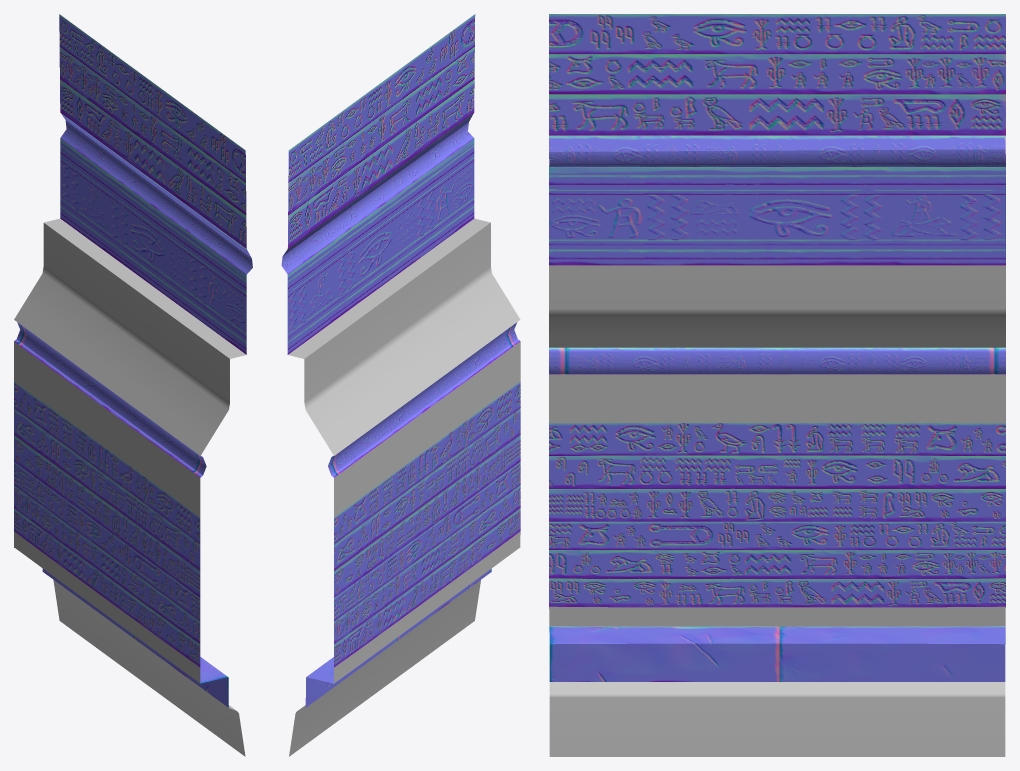
The model's file is SmallWall_NoGaps.fbx.
The picture shows the model from 3 angles, left to right: view 1: azimuth 30°, elevation 25°; view 2: azimuth 150°, elevation 25°; view 3: azimuth 270°, elevation 25°; orthographic projection. The views are drawn at different scales.
Parts seen in each view (by area): view 1: RoomWallFlat_Small; view 2: RoomWallFlat_Small; view 3: RoomWallFlat_Small.
Part boxes in pixels (x1,y1,x2,y2): RoomWallFlat_Small: (14, 14, 252, 756); RoomWallFlat_Small: (281, 14, 520, 756); RoomWallFlat_Small: (549, 14, 1005, 756).
Bounding box in the file's own units: 2.37 × 26.12 × 14.55.
